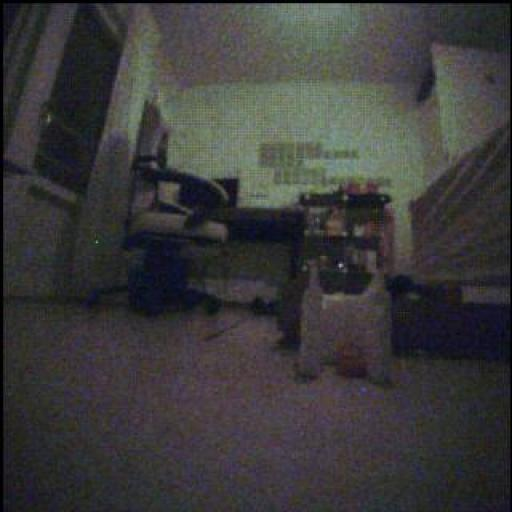basket: (336, 338, 368, 379)
